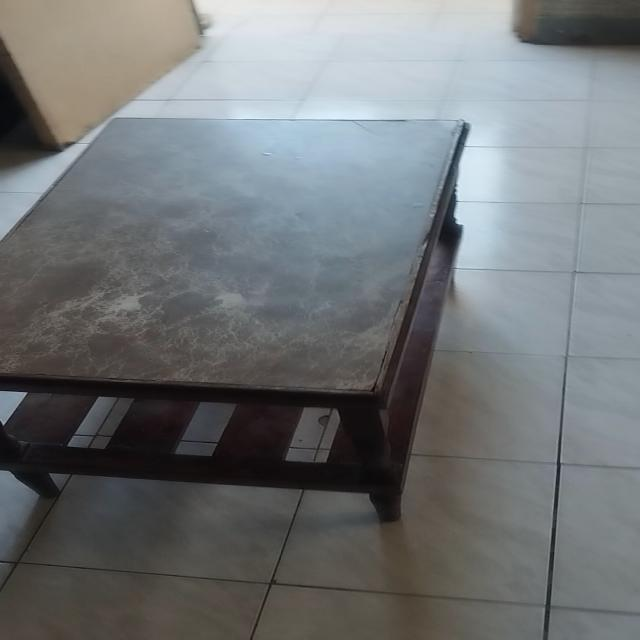table: (0, 111, 482, 535)
